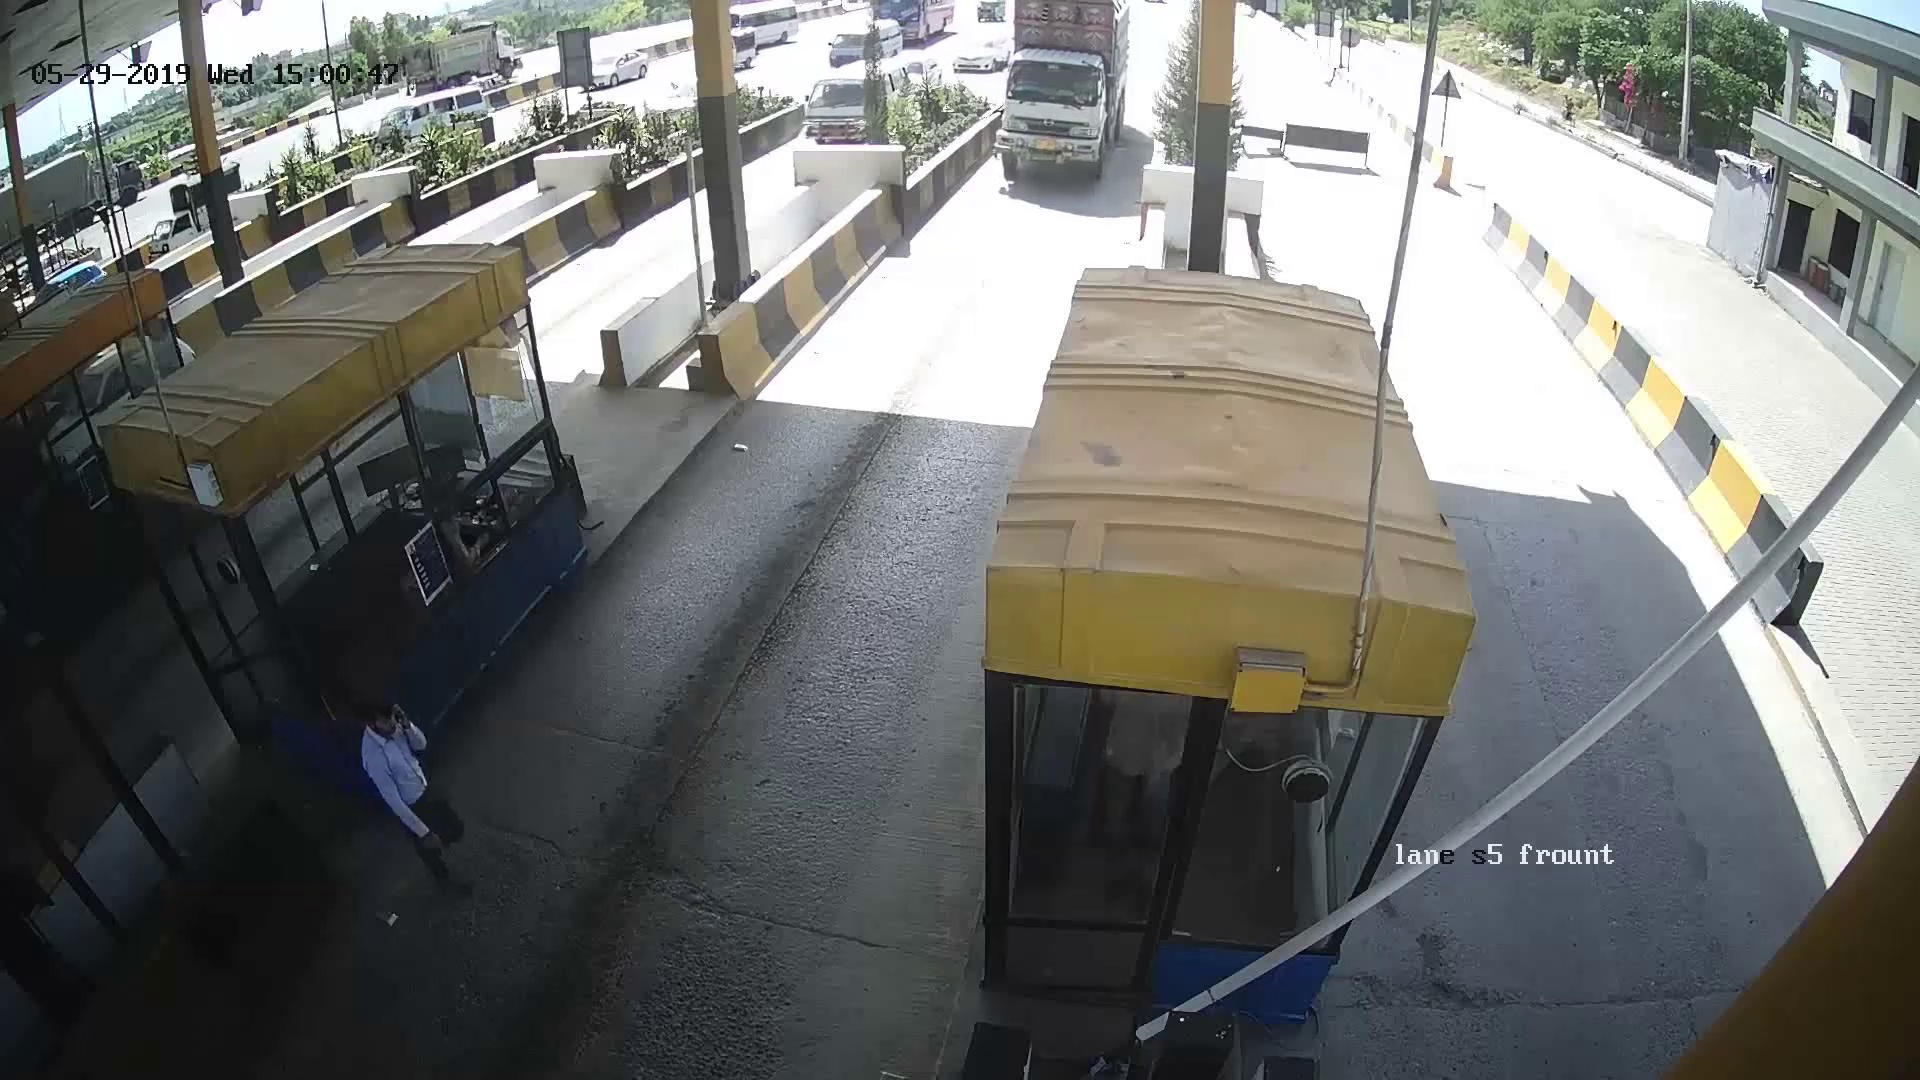truck: (990, 16, 1138, 183)
